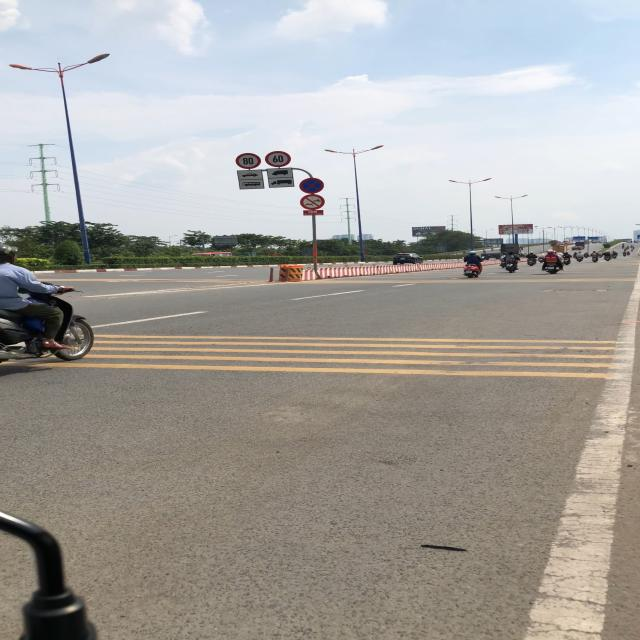Bien bao cam dung xe va do xe: (296, 176, 328, 194)
Bien bao toc do toi da cho phep: (232, 152, 264, 170), (264, 151, 295, 167)
